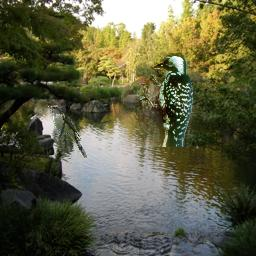Cuckoo: (47, 105, 87, 158)
Woodpecker: (137, 53, 193, 147)
